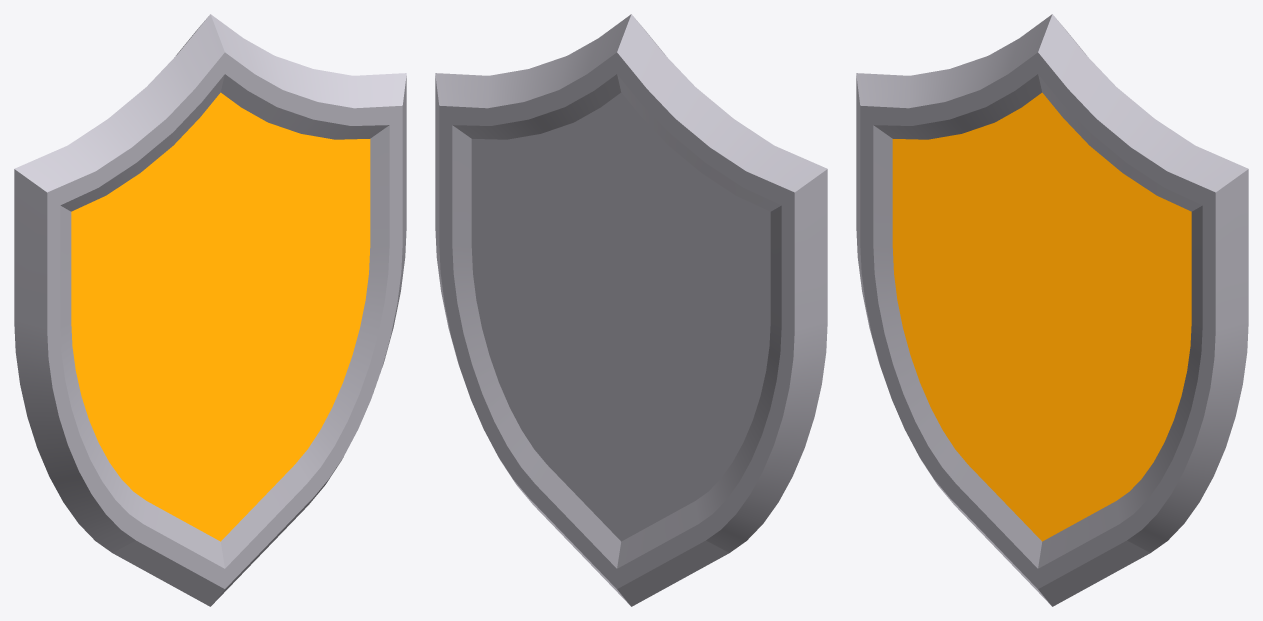
File: sec.glb
The picture shows the model from 3 angles, left to right: view 1: azimuth 30°, elevation 25°; view 2: azimuth 150°, elevation 25°; view 3: azimuth 330°, elevation 25°; orthographic projection.
Visible parts, largest first — view 1: sec; view 2: sec; view 3: sec.
Part boxes in pixels (x1,y1,x2,y2): sec: [14, 14, 406, 606]; sec: [435, 14, 827, 606]; sec: [856, 14, 1248, 606].
Bounding box in the file's own units: 17.46 × 25.2 × 2.23.
